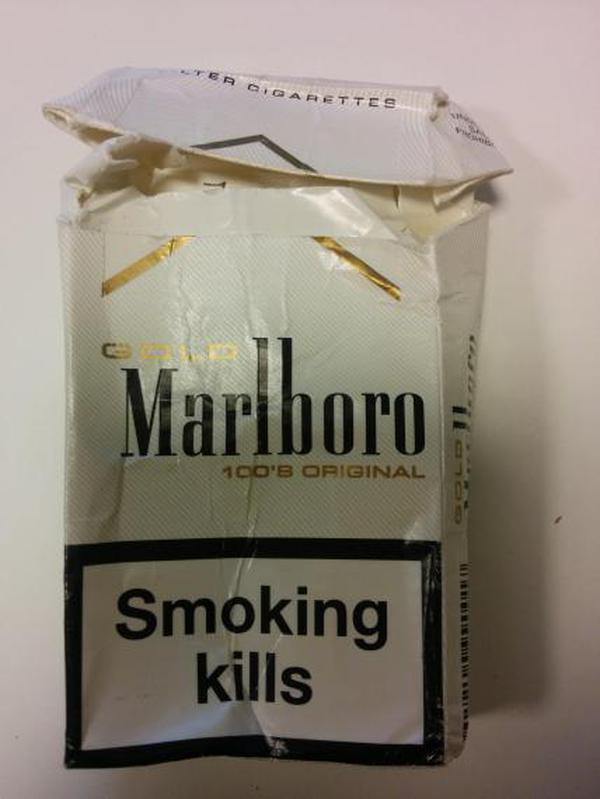marlboro_gold: (65, 87, 454, 760)
